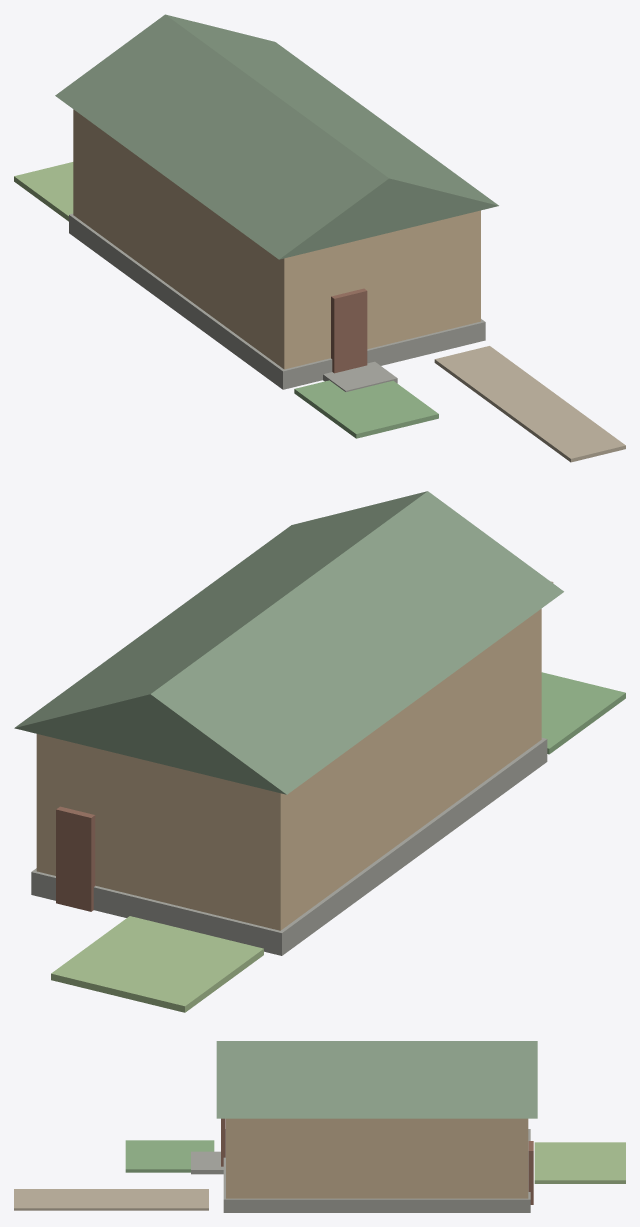
3 views of the same model, one above another, from view 1: azimuth 30°, elevation 25°; view 2: azimuth 150°, elevation 25°; view 3: azimuth 270°, elevation 25° (orthographic). The views are drawn at different scales.
Visible parts, largest first — view 1: MainRoof, MainBody, Driveway, StonePlinth, FrontGreenVerge, PublicDoor, RearYardPatch, PublicStep; view 2: MainRoof, MainBody, StonePlinth, RearYardPatch, FrontGreenVerge, ServiceDoor; view 3: MainRoof, MainBody, StonePlinth, Driveway, RearYardPatch, FrontGreenVerge, PublicStep, ServiceDoor.
Part boxes in pixels (x1,y1,x2,y2): MainRoof: (55,14,498,259); MainBody: (73,109,480,369); Driveway: (434,346,625,462); StonePlinth: (69,213,485,389); FrontGreenVerge: (294,380,438,438); PublicDoor: (331,288,367,373); RearYardPatch: (14,162,73,221); PublicStep: (323,361,397,391); MainRoof: (14,491,563,794); MainBody: (36,609,541,930); StonePlinth: (31,738,547,955); RearYardPatch: (51,916,263,1012); FrontGreenVerge: (541,672,625,754); ServiceDoor: (56,806,95,911); MainRoof: (216,1041,537,1118); MainBody: (226,1118,528,1198); StonePlinth: (223,1129,530,1212); Driveway: (14,1189,208,1210); RearYardPatch: (534,1142,625,1183); FrontGreenVerge: (125,1140,214,1172); PublicStep: (191,1151,223,1174); ServiceDoor: (528,1141,533,1204).
Size of the model in its own units: 7 by 5.77 by 23.49.
